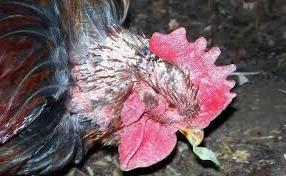AbNormal: (0, 1, 238, 176)
